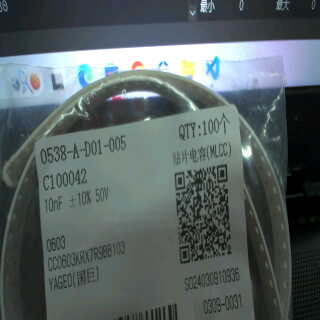10nF: (43, 193, 67, 218)
